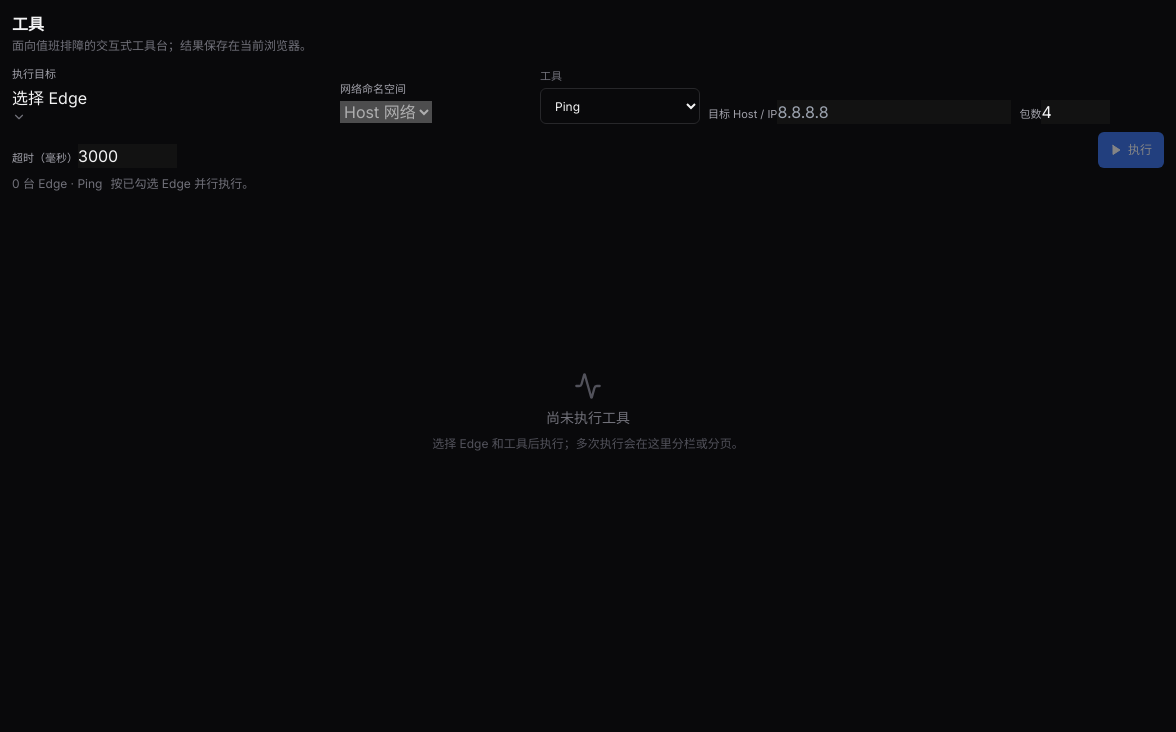
Test: DailyToolsPage › 对已选在线 Edge 并行执行 Ping 并展示矩阵结果
Click the button "选择 Edge" at (50, 105), box x1=12 y1=86 x2=87 y2=124
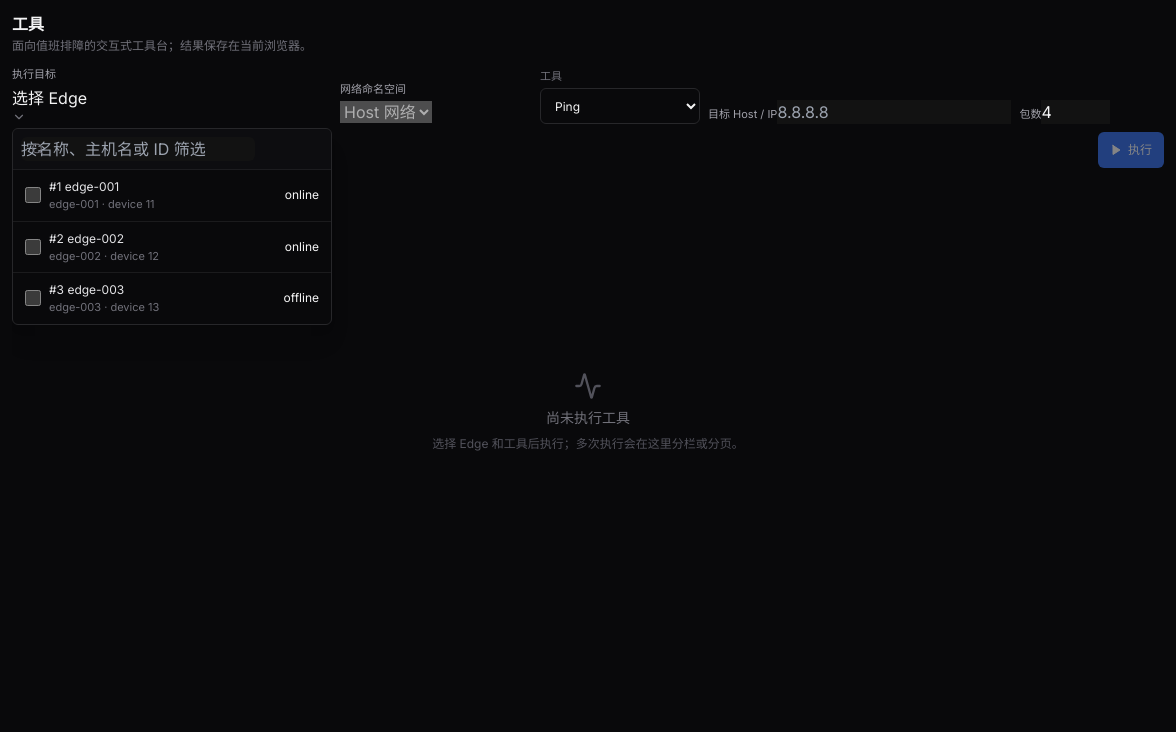
Now the field named "搜索 Edge" is shown, box x1=21 y1=137 x2=255 y2=161
Click the checkbox named "选择 #1 edge-001" at (33, 195), box x1=25 y1=187 x2=41 y2=203
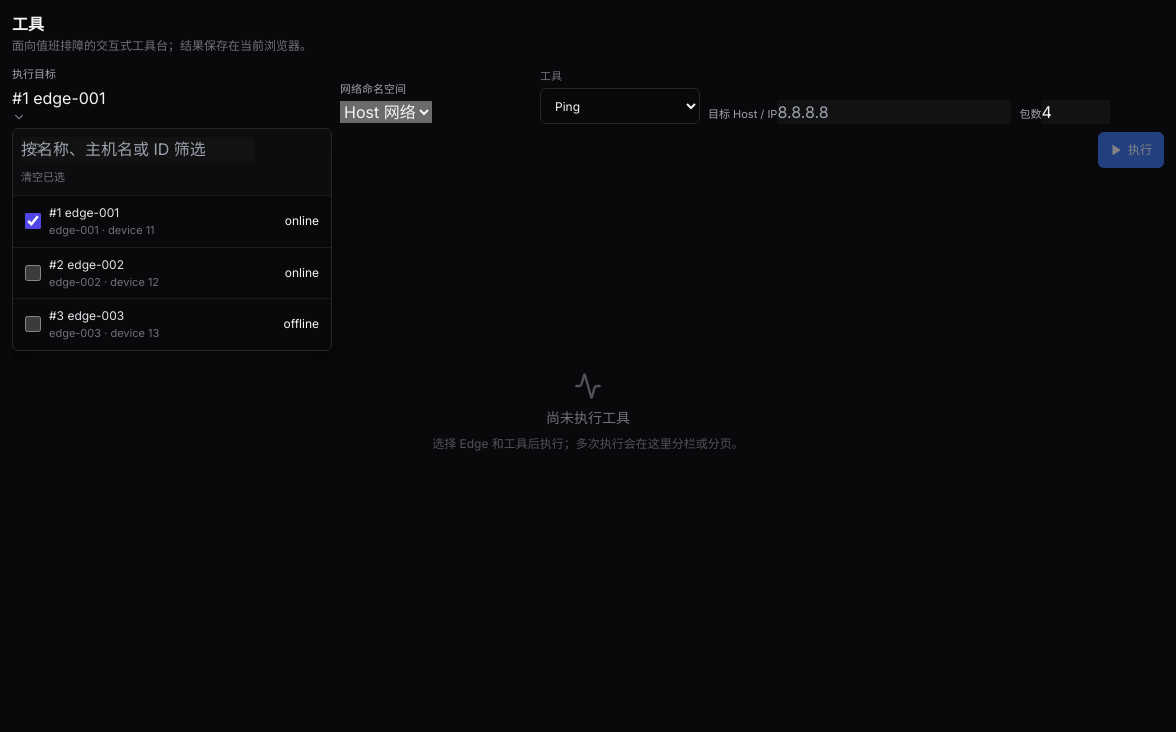
Click the checkbox named "选择 #2 edge-002" at (33, 273), box x1=25 y1=265 x2=41 y2=281
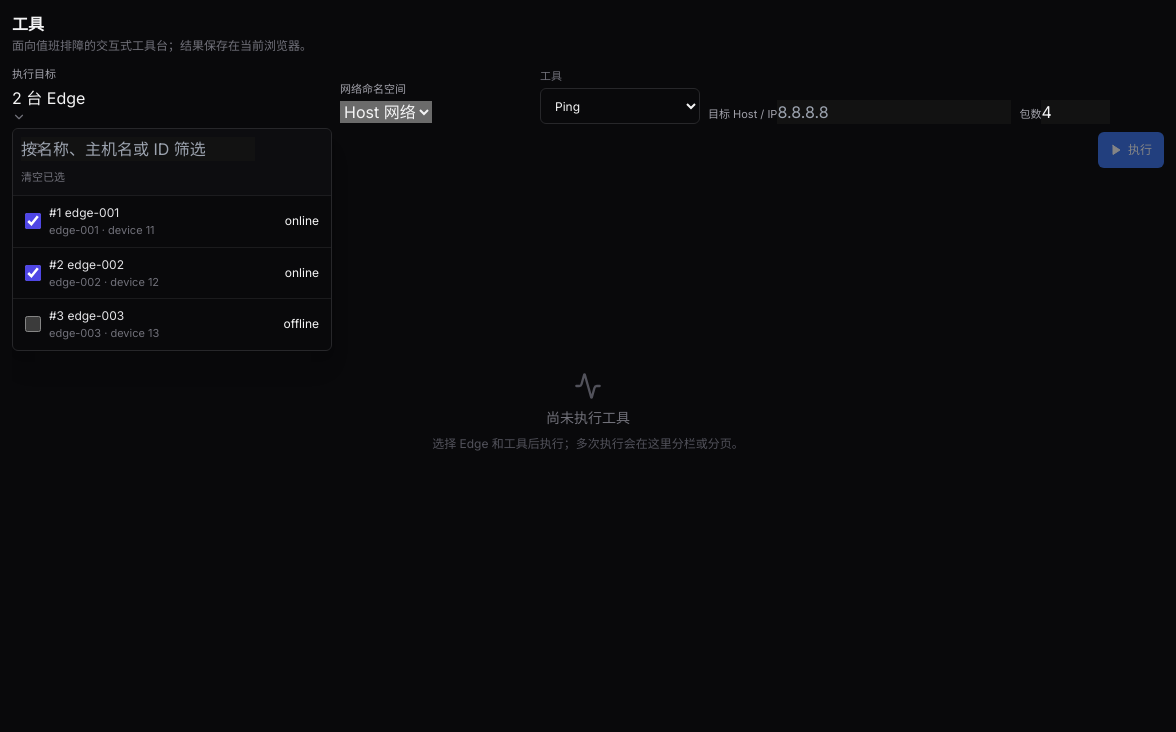
Type "101.34.63.91" into the field labelled "目标 Host / IP" at (894, 112), box x1=777 y1=100 x2=1011 y2=124
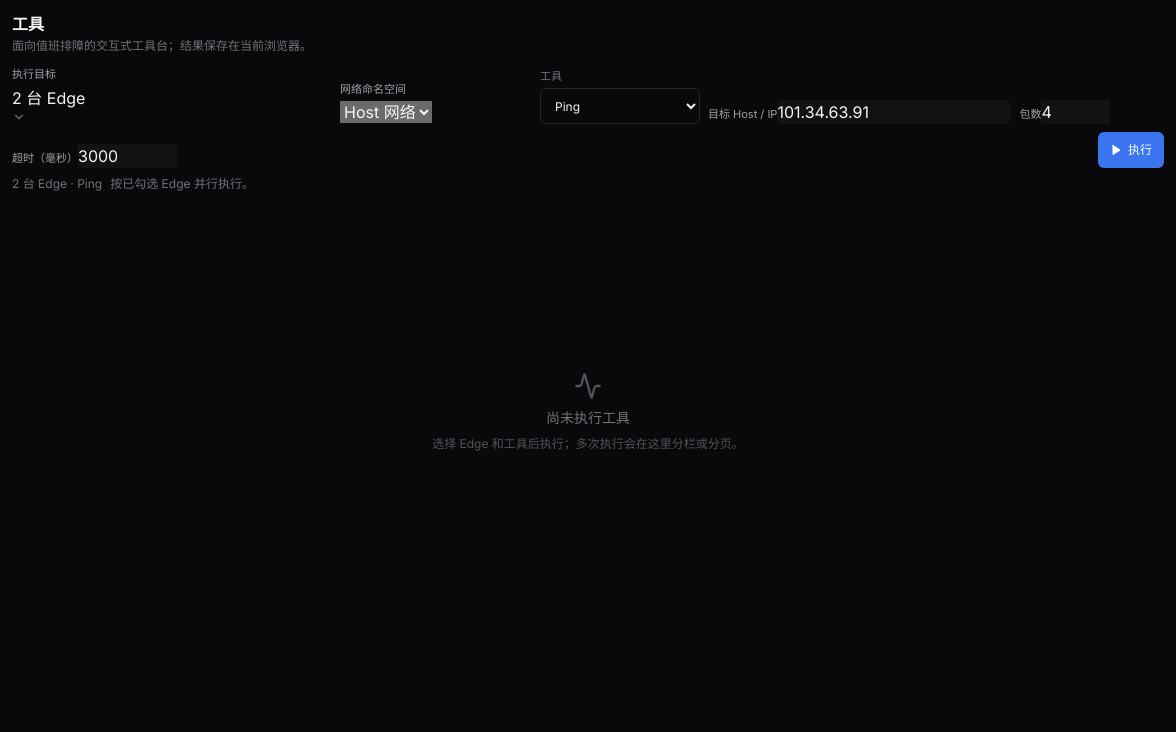
Click the button "执行" at (1131, 150), box x1=1098 y1=132 x2=1164 y2=168
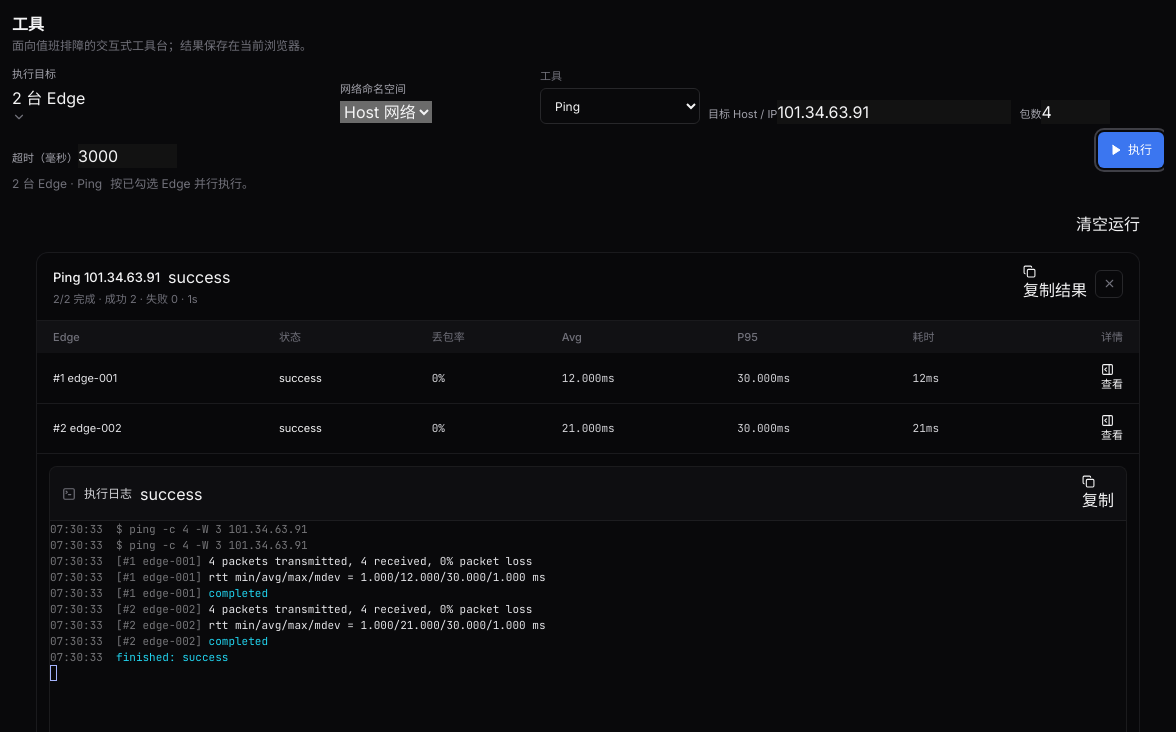
Now the heading "Ping 101.34.63.91" is shown, box x1=53 y1=267 x2=160 y2=287
Now the text "#1 edge-001" is shown, box x1=37 y1=353 x2=267 y2=403
Now the text "#2 edge-002" is shown, box x1=37 y1=403 x2=267 y2=453
